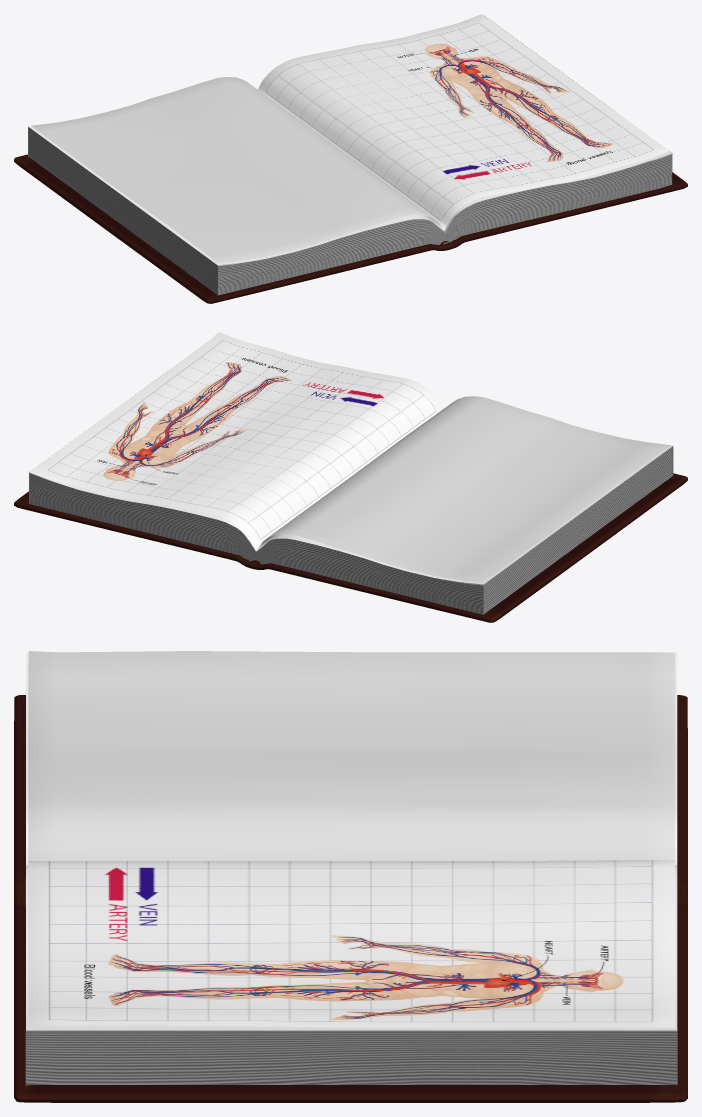
File: MDL_Book.fbx
3 renders of one model, top to bottom at view 1: azimuth 30°, elevation 25°; view 2: azimuth 150°, elevation 25°; view 3: azimuth 270°, elevation 25°, orthographic. The views are drawn at different scales.
Parts seen in each view (by area): view 1: MDL_Book; view 2: MDL_Book; view 3: MDL_Book.
Boxes of the visible parts, x1=… form: MDL_Book: x1=14, y1=14, x2=687, y2=303; MDL_Book: x1=14, y1=332, x2=687, y2=622; MDL_Book: x1=14, y1=651, x2=687, y2=1102.
Size of the model in its own units: 8.12 by 0.6856 by 5.73.
3 materials, 2 textured.
